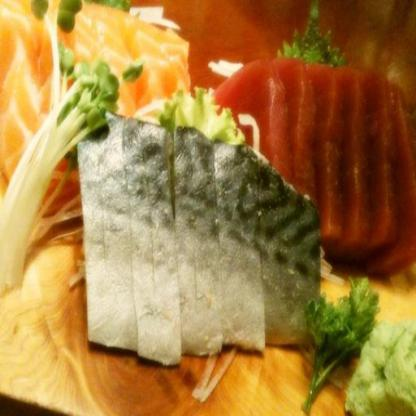tuna: (298, 60, 416, 266), (213, 60, 295, 204)
